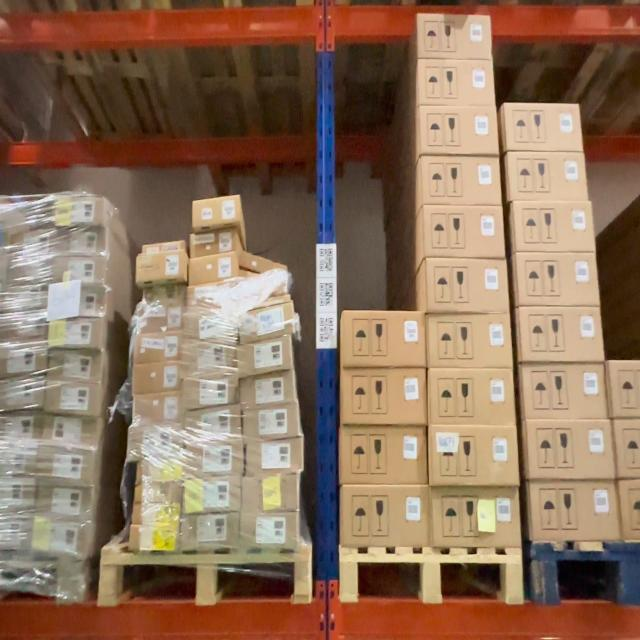box: (434, 426, 516, 484), (528, 368, 607, 422), (433, 370, 512, 421), (436, 490, 518, 538), (348, 492, 426, 542), (348, 431, 424, 482), (533, 488, 617, 534), (423, 212, 504, 259), (350, 314, 422, 366), (430, 318, 508, 366), (348, 373, 425, 419), (531, 426, 608, 472), (521, 314, 599, 358), (426, 162, 499, 209), (519, 256, 596, 300), (509, 101, 578, 149), (432, 264, 507, 308), (511, 152, 586, 196), (520, 204, 593, 247), (420, 14, 491, 58), (420, 64, 494, 104), (424, 114, 498, 154), (240, 514, 298, 552), (244, 480, 296, 512), (128, 426, 178, 458), (241, 341, 290, 373), (188, 448, 242, 475), (188, 482, 238, 510), (185, 379, 233, 407), (243, 412, 294, 438), (186, 417, 239, 442), (133, 395, 177, 424), (196, 198, 240, 227), (250, 445, 300, 470), (183, 519, 235, 543), (243, 382, 294, 406), (187, 346, 233, 370), (186, 316, 234, 338), (136, 484, 180, 507), (136, 366, 176, 391), (130, 507, 180, 527), (129, 533, 178, 552), (138, 254, 182, 275), (135, 336, 179, 356), (136, 460, 179, 480), (190, 260, 233, 280), (192, 236, 233, 256)
